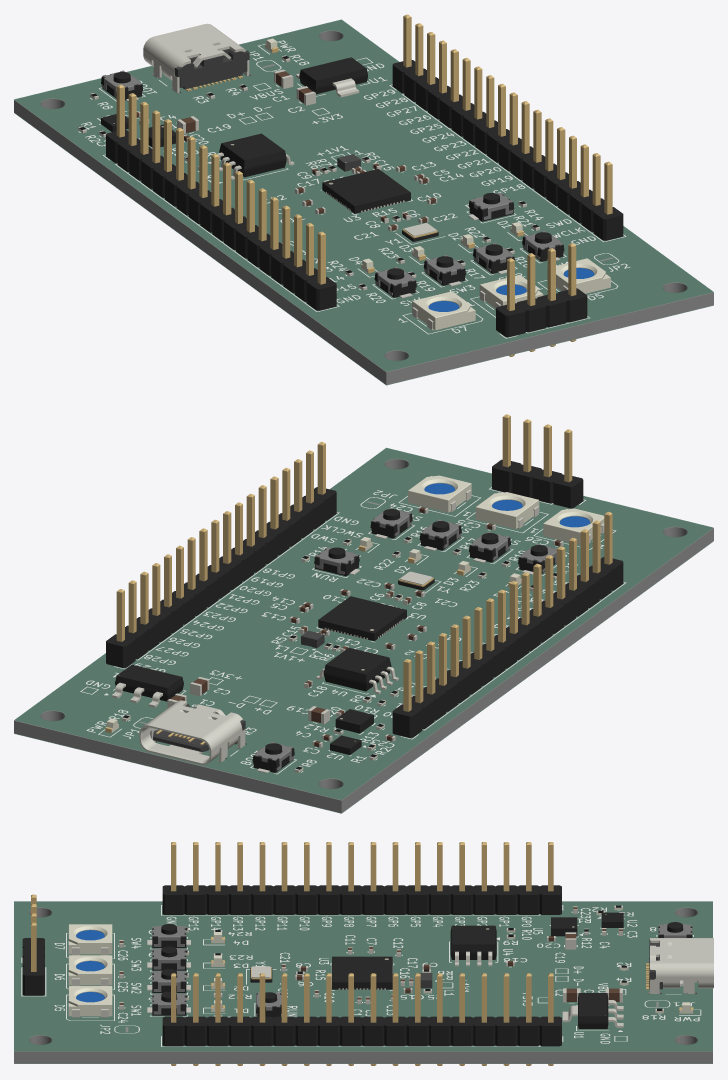
File: RP235x_60QFN.glb
3 views of the same model, one above another, from view 1: azimuth 30°, elevation 25°; view 2: azimuth 150°, elevation 25°; view 3: azimuth 270°, elevation 25° (orthographic). The views are drawn at different scales.
Visible parts, largest first — view 1: =>[0:1:1:20], =>[0:1:1:22], J4, J3, =>[0:1:1:18], J1, J2, U3, U4, U1, D7, D5 (+8 smaller); view 2: =>[0:1:1:20], =>[0:1:1:22], J3, J4, =>[0:1:1:18], J1, J2, U3, U4, U1, D6, D5 (+9 smaller); view 3: =>[0:1:1:20], =>[0:1:1:22], J4, J3, =>[0:1:1:18], J1, U3, U4, J2, U1, D7, D5 (+10 smaller).
Boxes of the visible parts, x1,y1,x2,y2 form: =>[0:1:1:20]: (14, 19, 713, 371); =>[0:1:1:22]: (14, 20, 713, 384); J4: (392, 14, 623, 240); J3: (106, 84, 336, 310); =>[0:1:1:18]: (78, 40, 630, 338); J1: (143, 23, 249, 92); J2: (496, 243, 587, 356); U3: (322, 169, 410, 213); U4: (217, 133, 294, 179); U1: (296, 57, 367, 97); D7: (412, 291, 475, 330); D5: (547, 258, 610, 293); =>[0:1:1:20]: (14, 447, 713, 799); =>[0:1:1:22]: (14, 449, 713, 813); J3: (392, 511, 623, 737); J4: (106, 441, 336, 667); =>[0:1:1:18]: (80, 487, 626, 774); J1: (139, 700, 245, 764); J2: (492, 414, 583, 508); U3: (318, 596, 406, 641); U4: (316, 647, 398, 693); U1: (111, 664, 183, 707); D6: (475, 492, 539, 529); D5: (408, 475, 471, 512); =>[0:1:1:20]: (14, 901, 712, 1051); =>[0:1:1:22]: (14, 902, 712, 1063); J4: (162, 973, 561, 1065); J3: (162, 842, 561, 914); =>[0:1:1:18]: (21, 905, 701, 1046); J1: (646, 938, 713, 993); U3: (331, 956, 392, 989); U4: (450, 925, 496, 966); J2: (22, 894, 44, 995); U1: (562, 993, 623, 1028); D7: (68, 924, 112, 955); D5: (68, 986, 112, 1017).
Size of the model in its own units: 0.0406 by 0.0115 by 0.0801.
